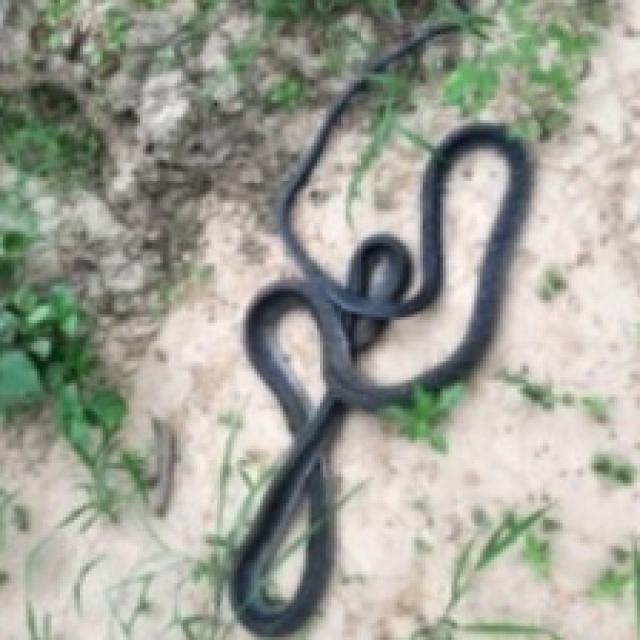king cobra: (231, 20, 529, 634), (354, 149, 506, 383)
